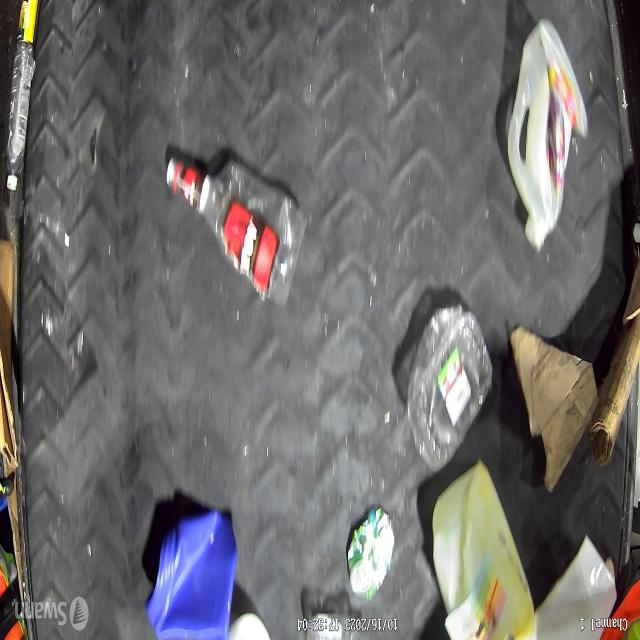milk_jug: (507, 19, 590, 250), (433, 464, 538, 640)
non_white_jug: (147, 516, 238, 634)
